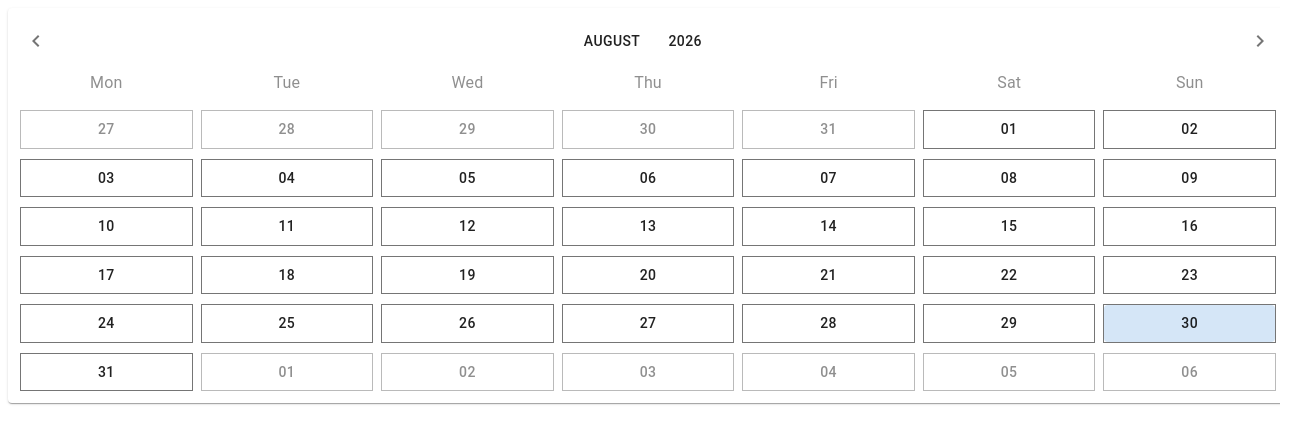
Test: CalendarView on get-moment-stamp api › Expect day cell of another date to have no items
The image size is (1292, 428).
Click the 2nd button "30".
click(1190, 323)  # box [1104,305,1275,342]
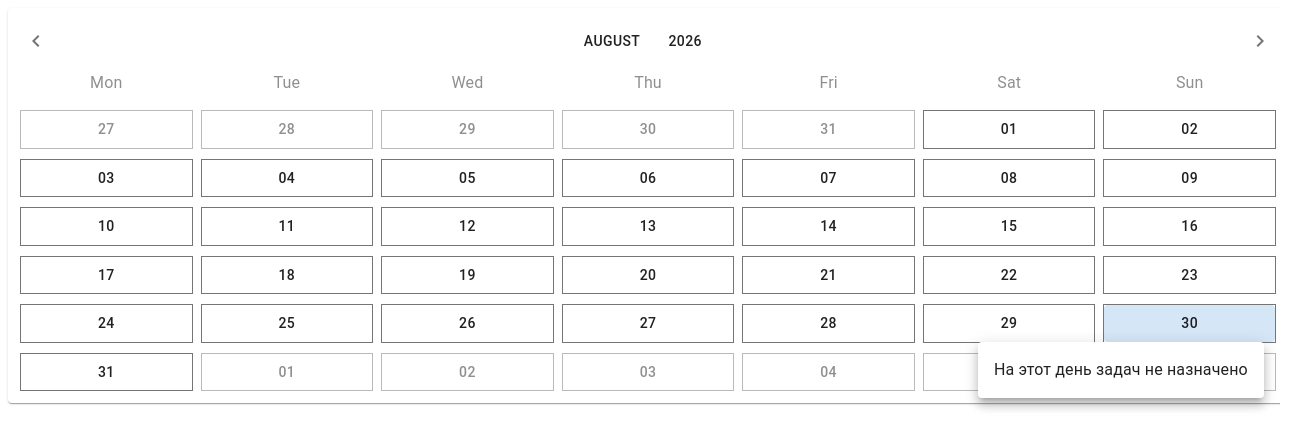
Result: the text "На этот день задач не назначено" is shown at [994,360,1248,379]
